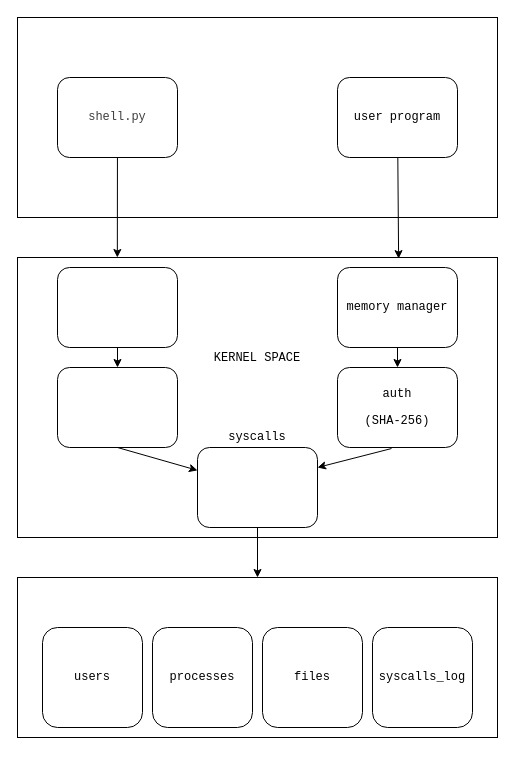
The diagram is 515 pixels wide and 760 high, and some of its shapes have lost their labels. Each missing label, with the box of its shape:
fs (Файловая система): (56, 366, 178, 448)
scheduler (FCFS, RR, Priority): (56, 266, 178, 348)
SQLite: (16, 576, 498, 738)
syscalls.py: (196, 446, 318, 528)
USER SPACE syscalls: (16, 16, 498, 218)
